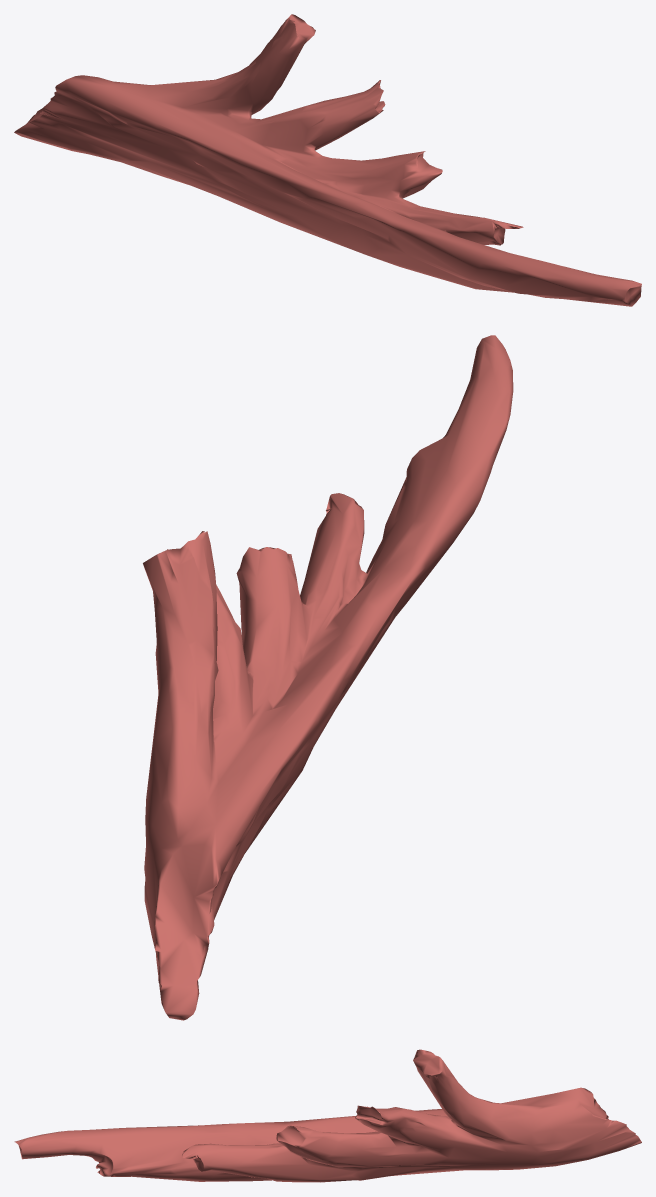
3 views of the same model, one above another, from view 1: azimuth 30°, elevation 25°; view 2: azimuth 150°, elevation 25°; view 3: azimuth 270°, elevation 25° (orthographic). The views are drawn at different scales.
Parts seen in each view (by area): view 1: 右侧中斜角肌; view 2: 右侧中斜角肌; view 3: 右侧中斜角肌.
Boxes of the visible parts, left/top/right/bottom form: 右侧中斜角肌: left=14, top=14, right=641, bottom=306; 右侧中斜角肌: left=143, top=335, right=513, bottom=1020; 右侧中斜角肌: left=14, top=1049, right=641, bottom=1182.
Bounding box in the file's own units: 0.0445 × 0.0369 × 0.1461.
